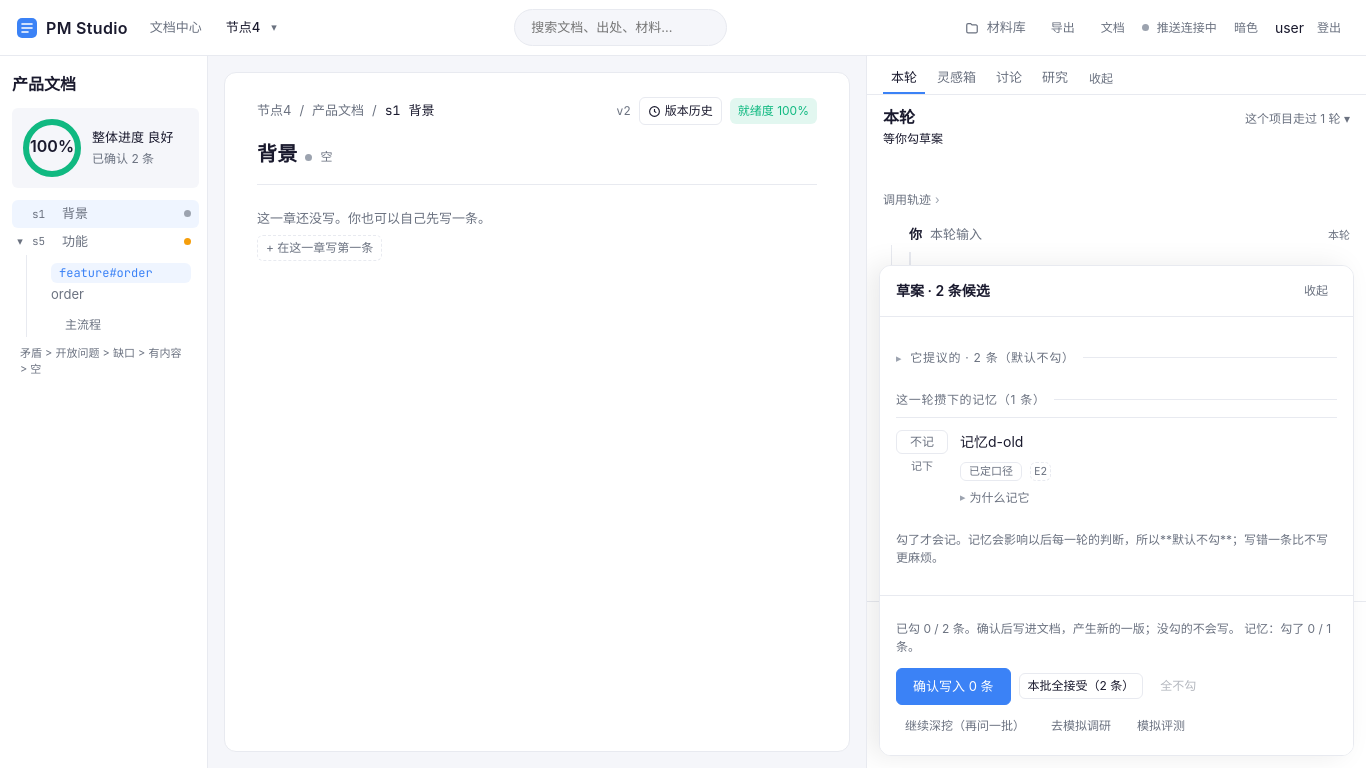
Test: App 精确跳转遇到文档里缺失的Entry时提示不可唯一定位，不假跳
The width and height of the screenshot is (1366, 768).
Expected: the text "记忆d-old" is shown, [960, 433, 1023, 450]
Click the heading "它提议的 · 2 条（默认不勾）" at [993, 357], box [910, 350, 1075, 365]
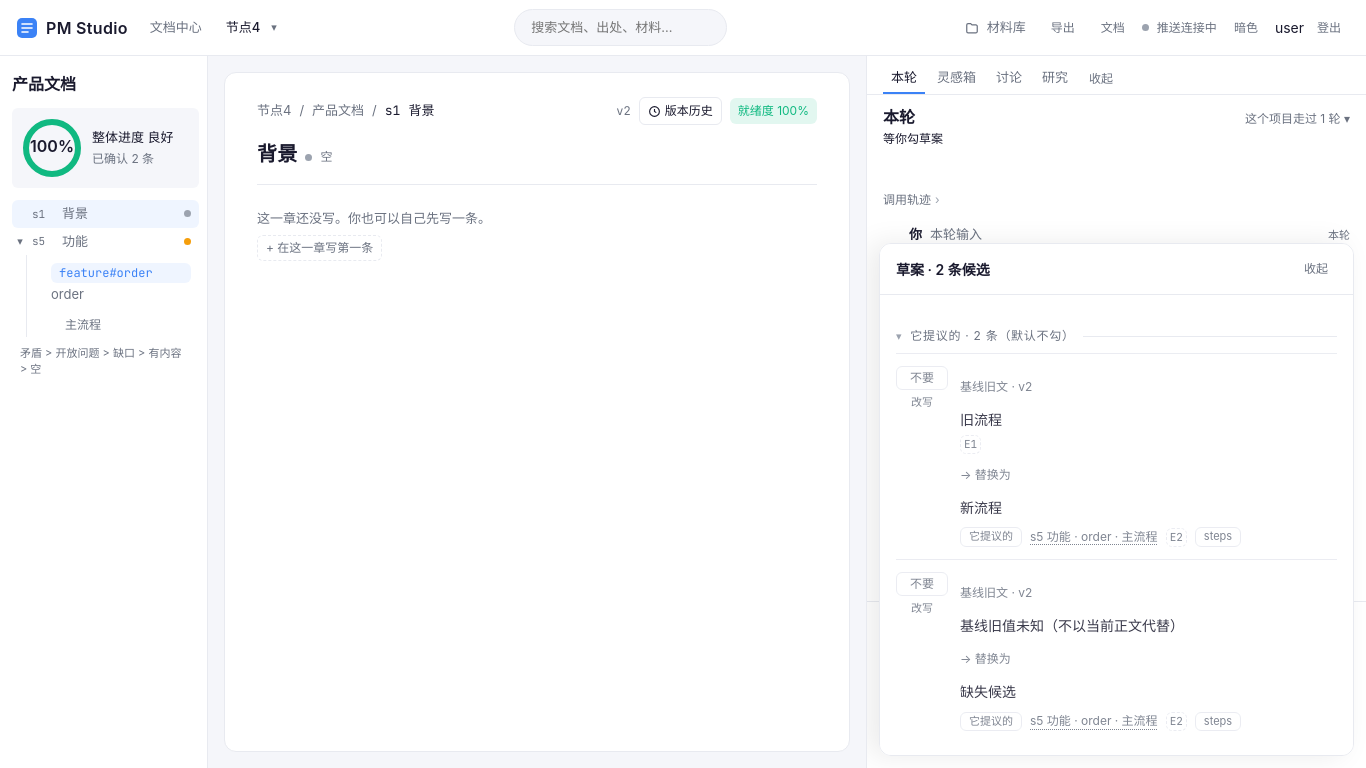
Result: the text "缺失候选" is shown at [960, 683, 1016, 700]
Click the button "s5 功能 · order · 主流程" below "缺失候选" at [1094, 722], box [1030, 712, 1158, 730]
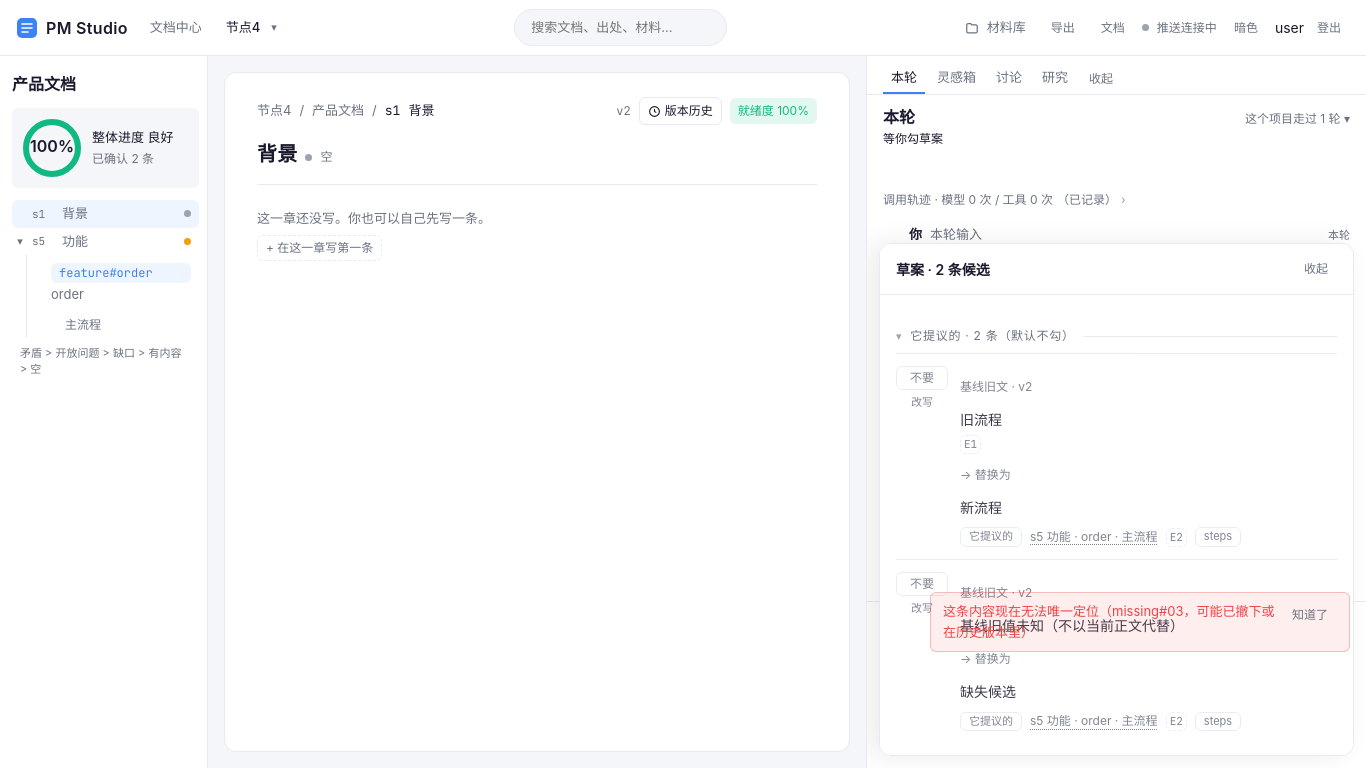
Result: the text "这条内容现在无法唯一定位（missing#03，可能已撤下或在历史版本里） 知道了" is shown at [930, 592, 1350, 652]
